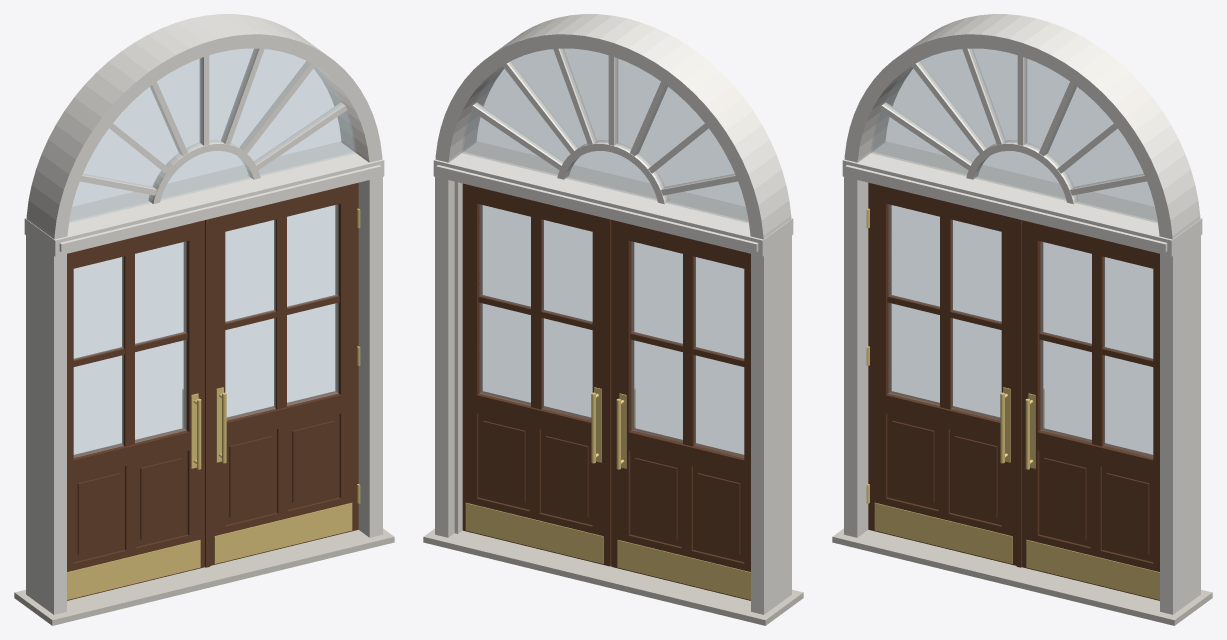
File: main_entrance_door.glb
3 views of the same model, side by side, from view 1: azimuth 30°, elevation 25°; view 2: azimuth 150°, elevation 25°; view 3: azimuth 330°, elevation 25° (orthographic).
Parts seen in each view (by area): view 1: Door_Frame, Door_Leaf_Right, Door_Leaf_Left; view 2: Door_Frame, Door_Leaf_Right, Door_Leaf_Left; view 3: Door_Frame, Door_Leaf_Left, Door_Leaf_Right.
Part boxes in pixels (x1,y1,x2,y2): Door_Frame: (14, 14, 394, 625); Door_Leaf_Right: (205, 182, 360, 567); Door_Leaf_Left: (67, 220, 204, 600); Door_Frame: (423, 14, 803, 625); Door_Leaf_Right: (462, 183, 611, 566); Door_Leaf_Left: (611, 220, 750, 600); Door_Frame: (832, 14, 1212, 625); Door_Leaf_Left: (866, 182, 1016, 565); Door_Leaf_Right: (1016, 219, 1159, 600).
Bounding box in the file's own units: 3.12 × 4.72 × 0.6.
